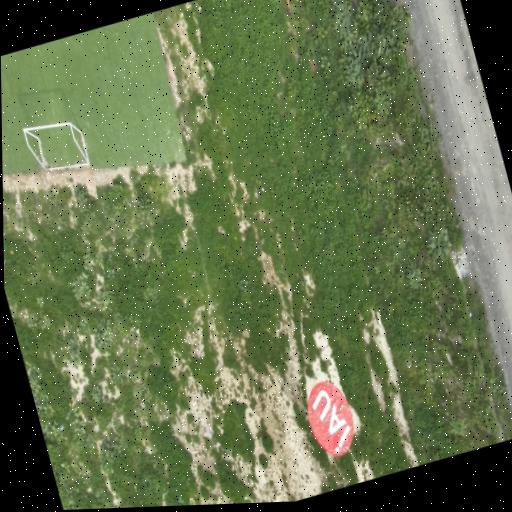uai: (308, 381, 354, 456)
